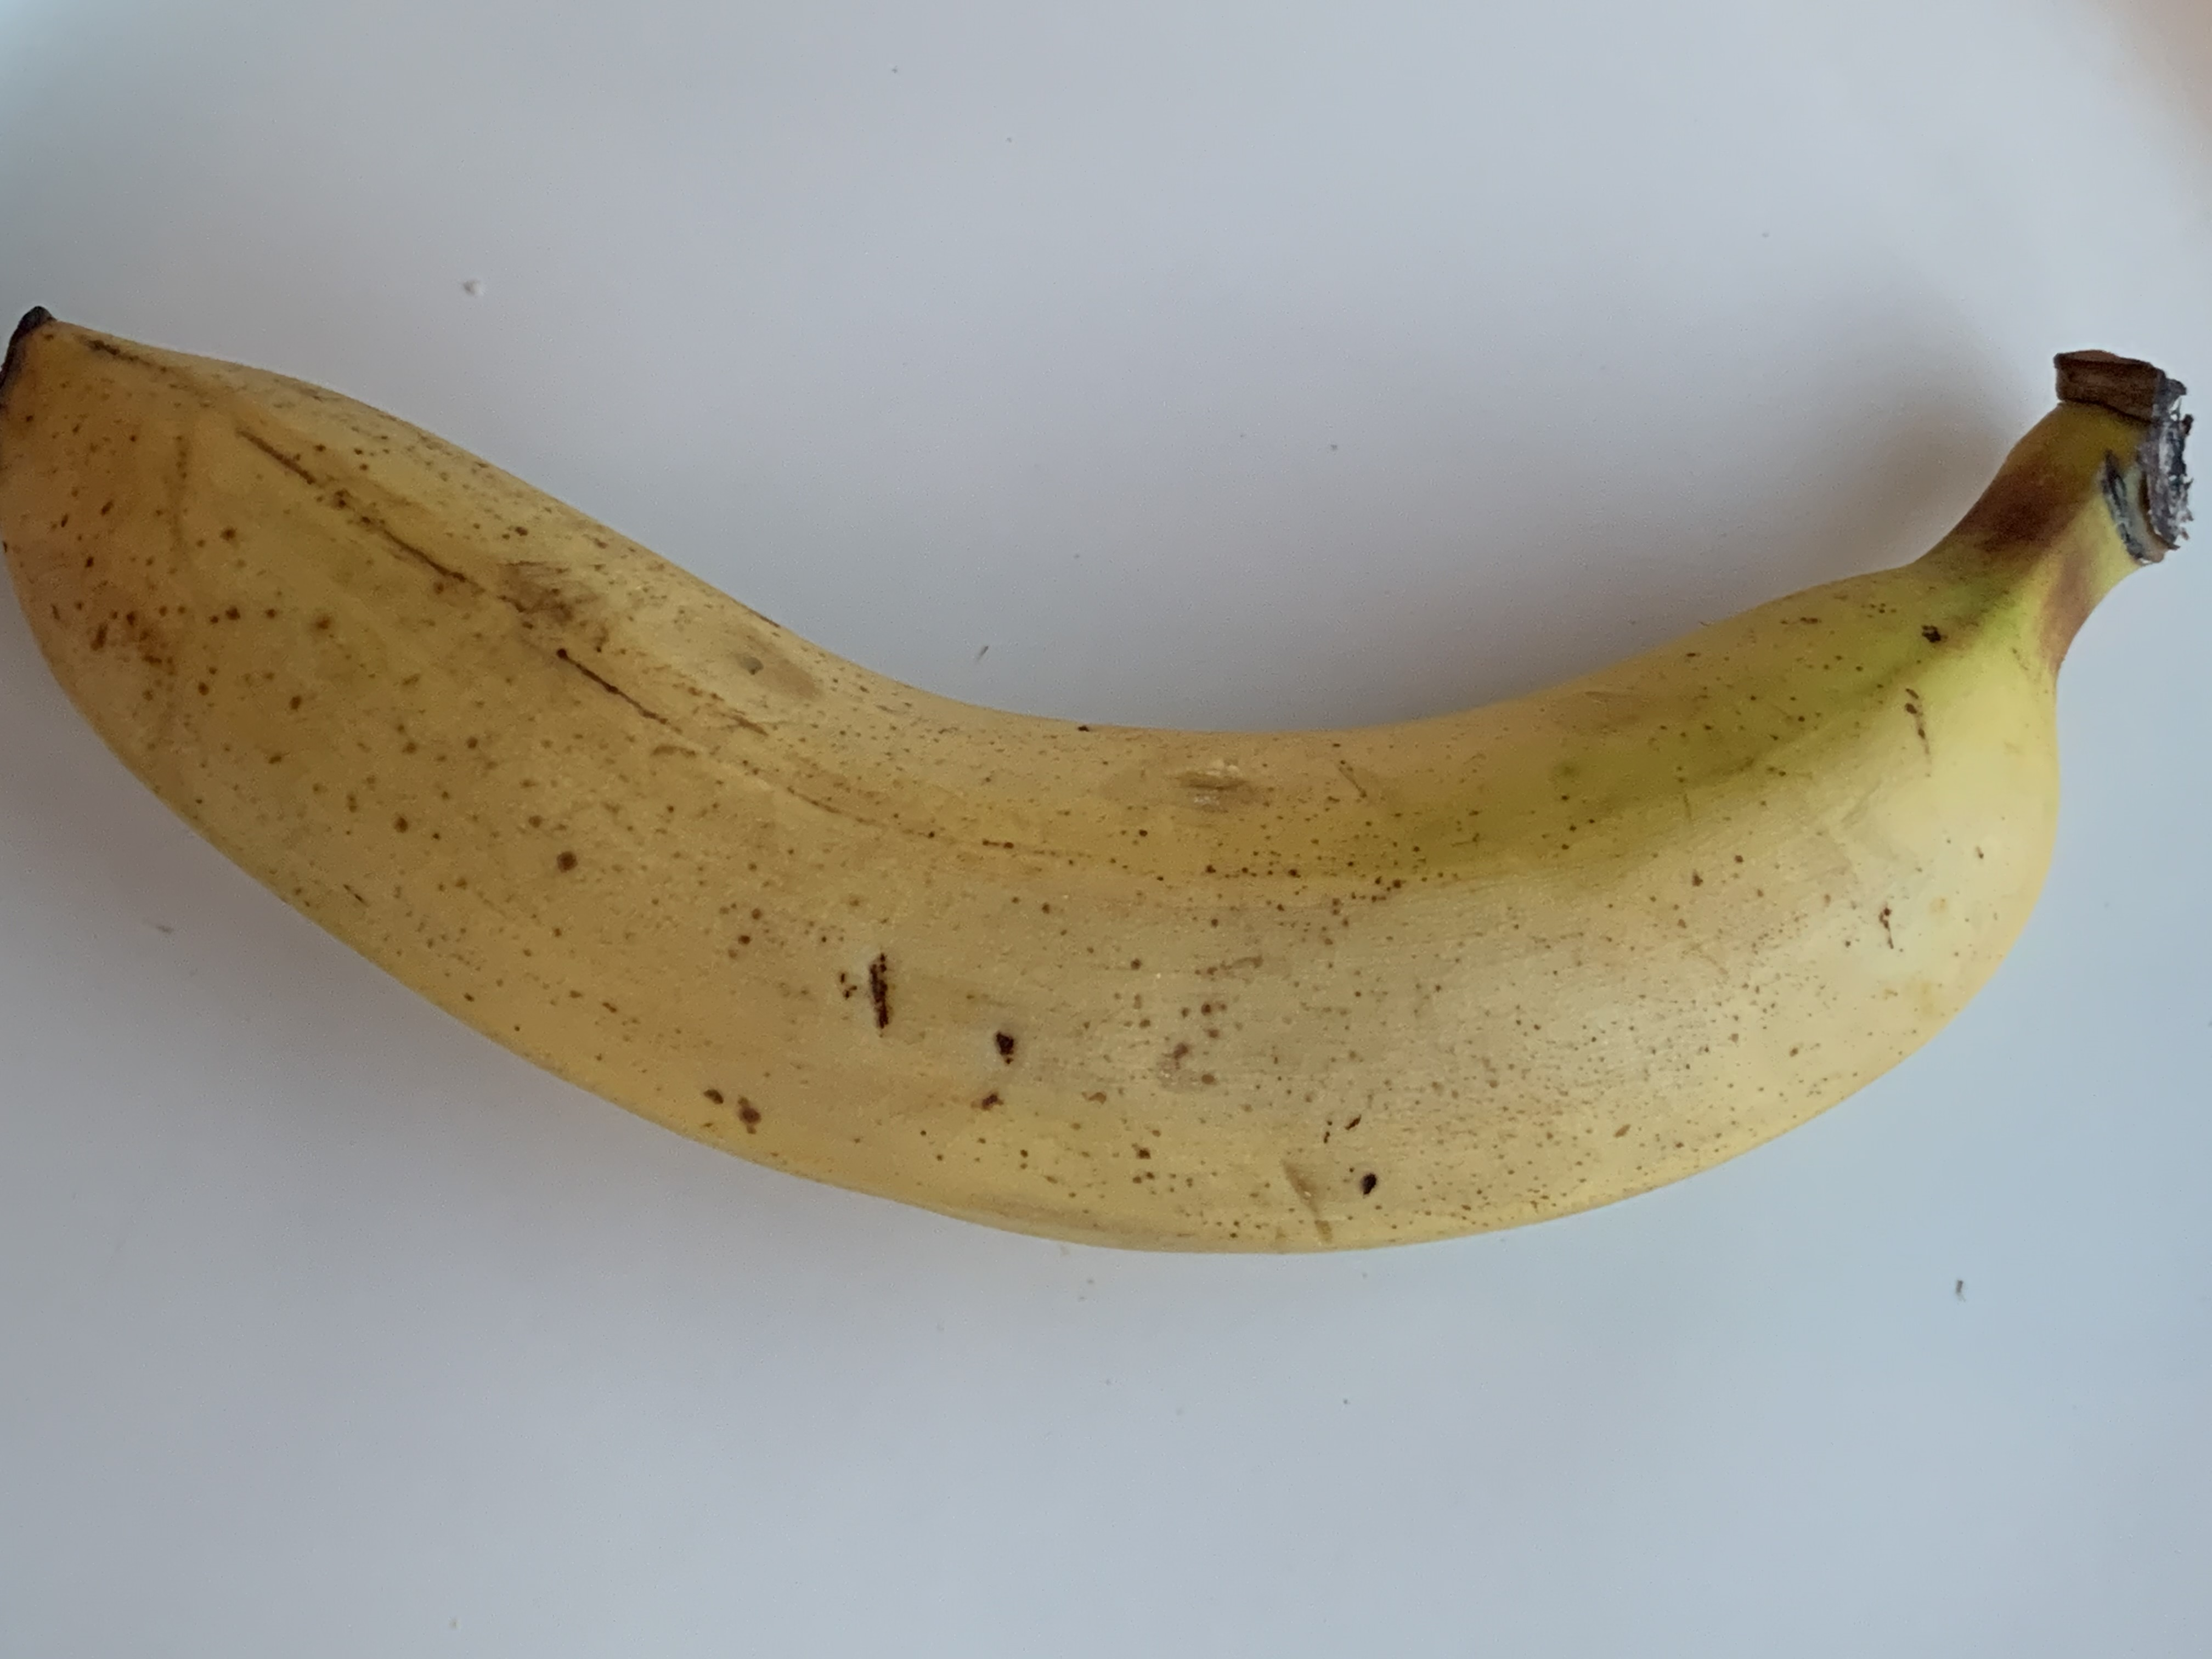banana: (23, 272, 2212, 1258)
